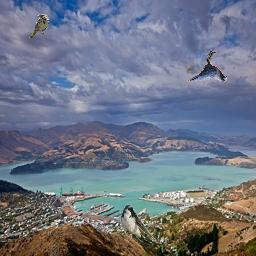Crow: (187, 49, 227, 82)
Sparrow: (29, 14, 49, 38)
Swallow: (120, 204, 156, 244)
